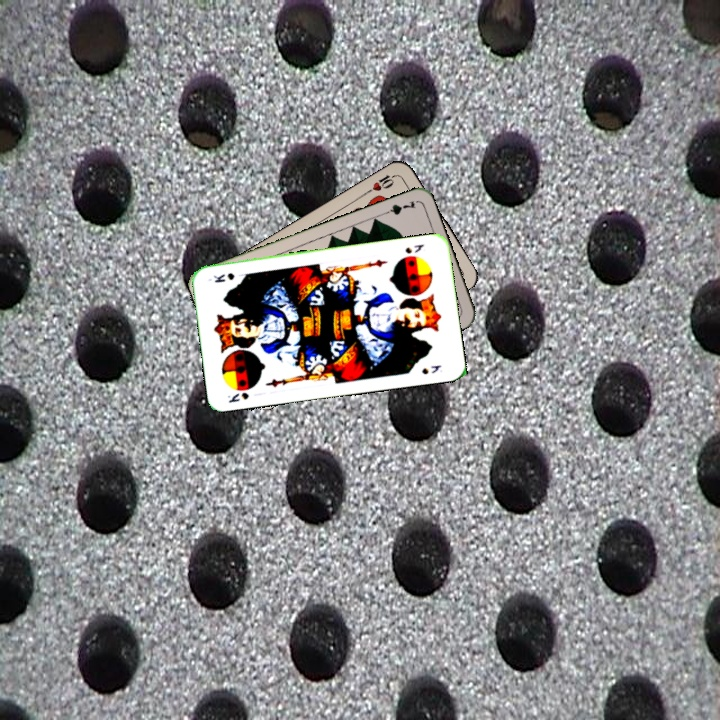G7: (378, 196, 418, 218)
H10: (362, 170, 400, 196)
SK: (223, 388, 251, 405), (401, 240, 427, 256)
